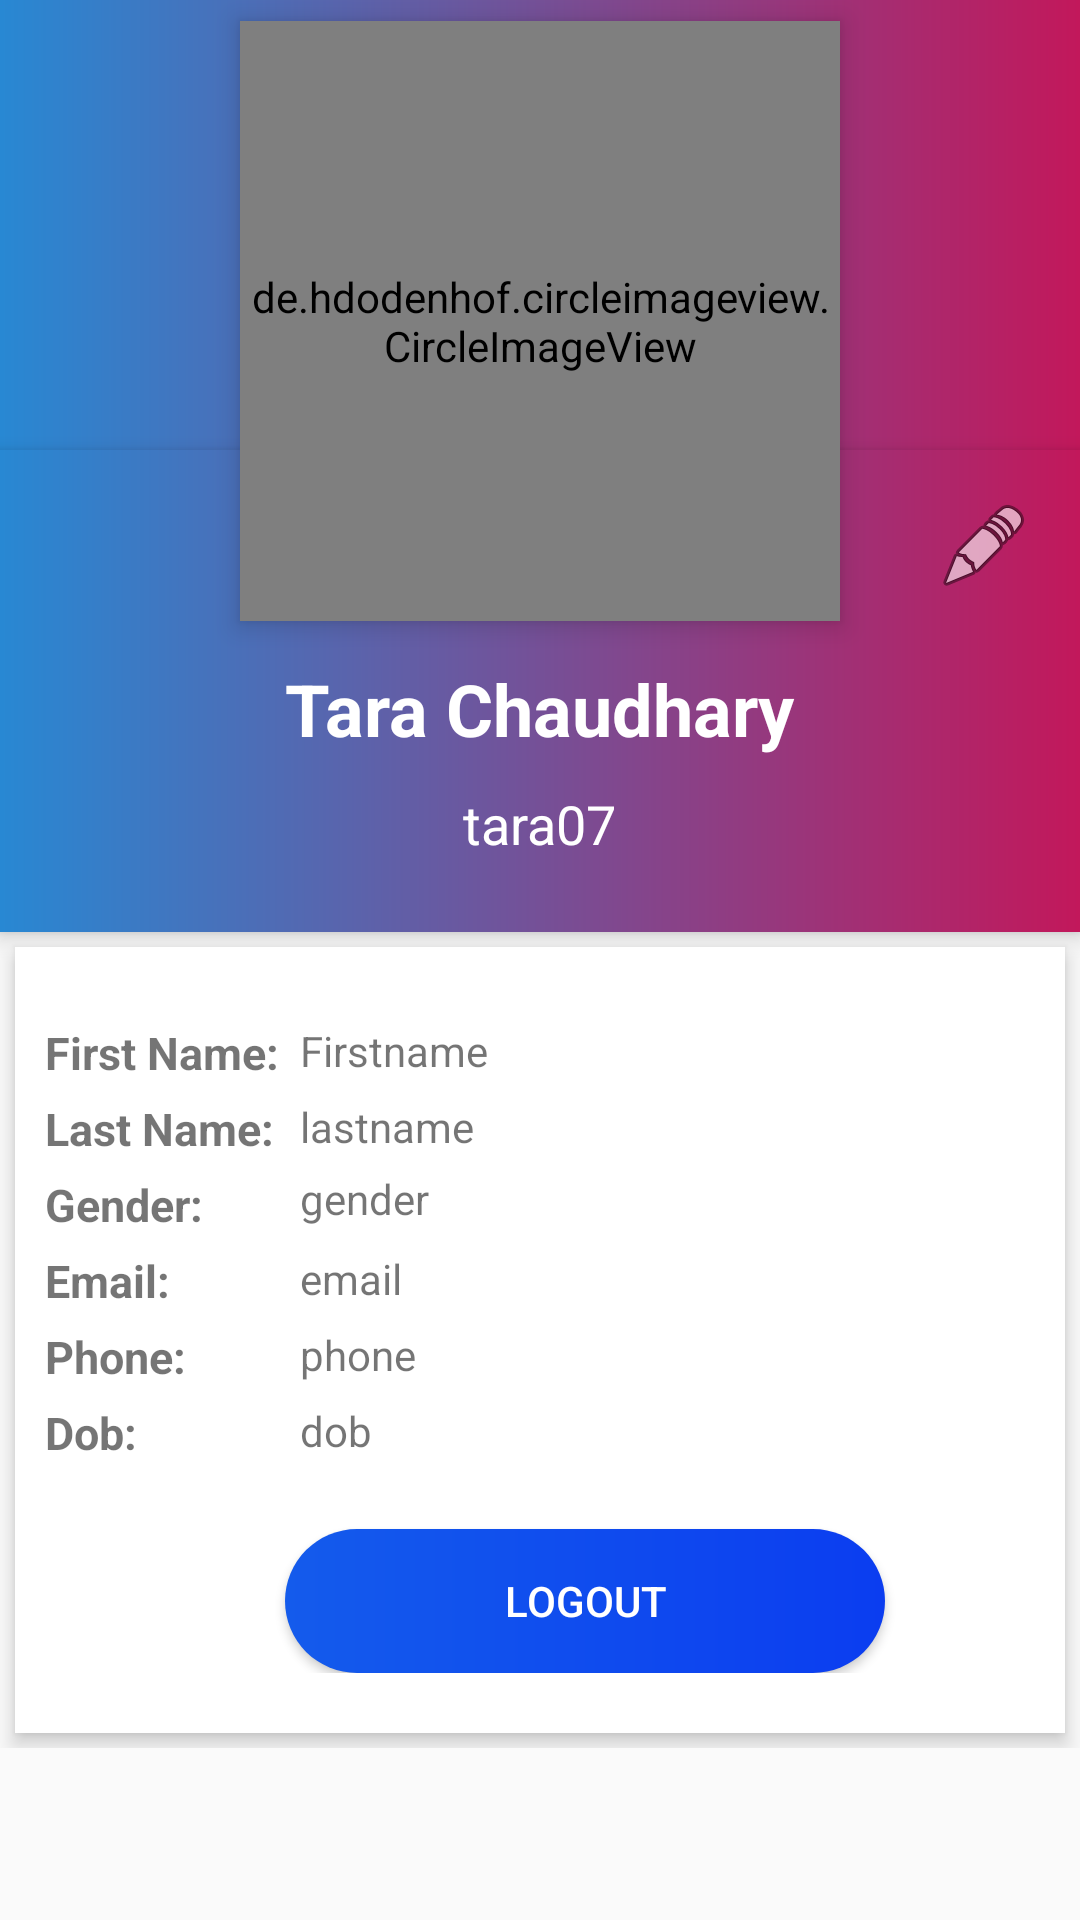

Icon click points for this 1080×1920 phone screenshot, format [x,y]:
edit: [983,545]
